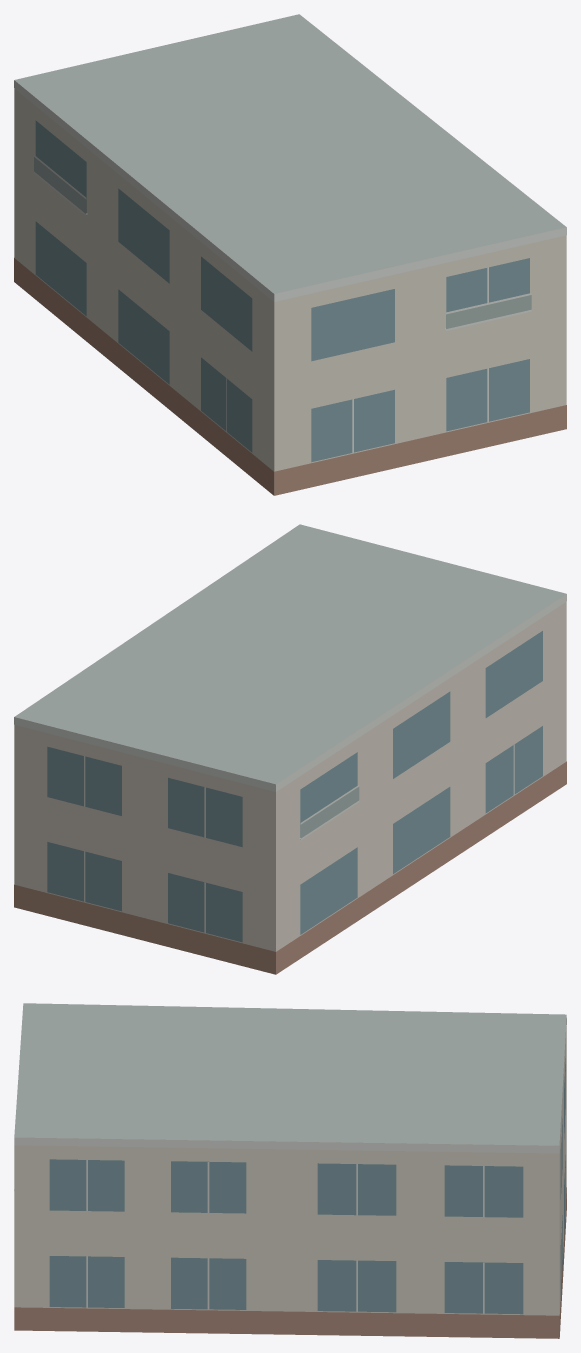
File: survey-upis-33039829.glb
3 renders of one model, top to bottom at view 1: azimuth 30°, elevation 25°; view 2: azimuth 150°, elevation 25°; view 3: azimuth 270°, elevation 25°, orthographic. The views are drawn at different scales.
Visible parts, largest first — view 1: survey-upis-33039829.tmp; view 2: survey-upis-33039829.tmp; view 3: survey-upis-33039829.tmp.
Part boxes in pixels (x1,y1,x2,y2): survey-upis-33039829.tmp: [14, 14, 566, 495]; survey-upis-33039829.tmp: [14, 524, 566, 974]; survey-upis-33039829.tmp: [14, 1003, 566, 1338].
Size of the model in its own units: 9.68 by 6.1 by 15.85.
